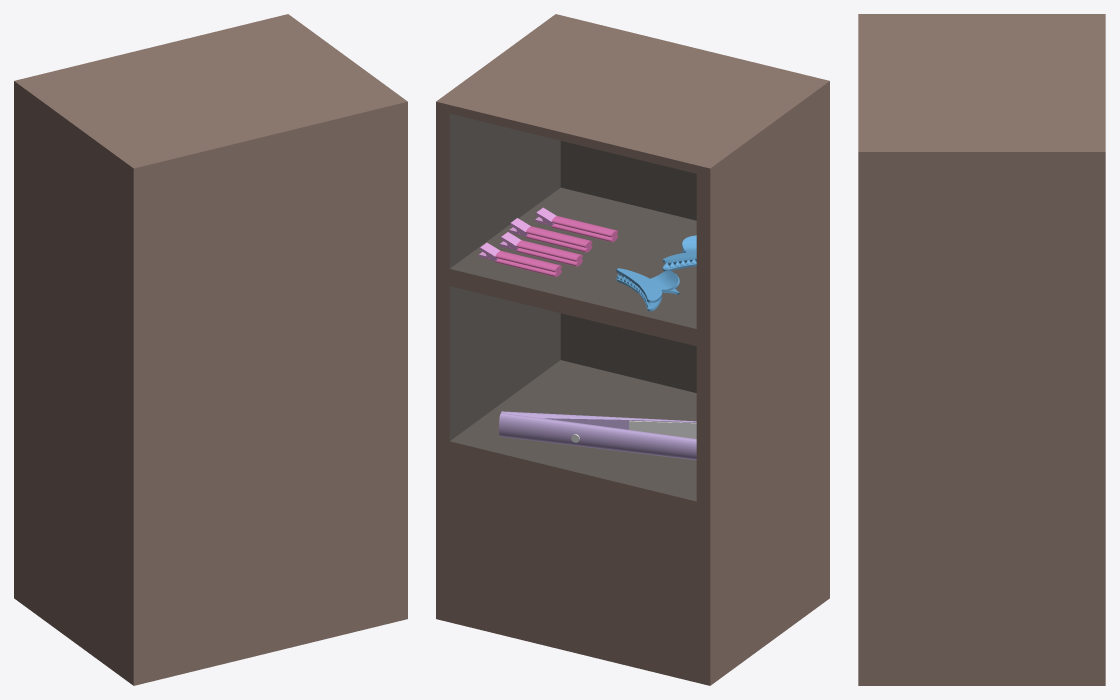
File: Cabinet.fbx
3 renders of one model, left to right at view 1: azimuth 30°, elevation 25°; view 2: azimuth 150°, elevation 25°; view 3: azimuth 270°, elevation 25°, orthographic. The views are drawn at different scales.
Visible parts, largest first — view 1: Cabinet; view 2: Cabinet, pCylinder33 (×2), polySurface1, pCube85; view 3: Cabinet.
Boxes of the visible parts, x1=… form: Cabinet: x1=14, y1=14, x2=407, y2=685; Cabinet: x1=436, y1=14, x2=829, y2=685; pCylinder33 (×2): x1=499, y1=411, x2=696, y2=460; polySurface1: x1=616, y1=268, x2=679, y2=302; pCube85: x1=629, y1=420, x2=696, y2=438; Cabinet: x1=858, y1=14, x2=1105, y2=685.
Size of the model in its own units: 87.47 by 158 by 66.16.
